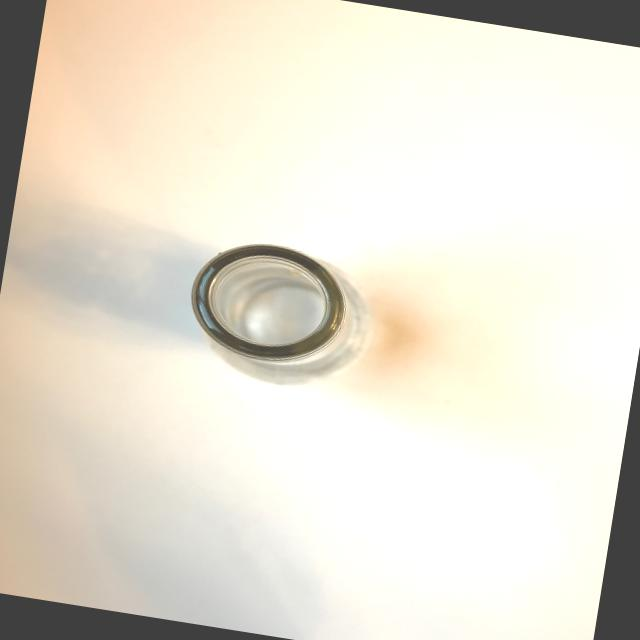Metal: (166, 215, 401, 412)
